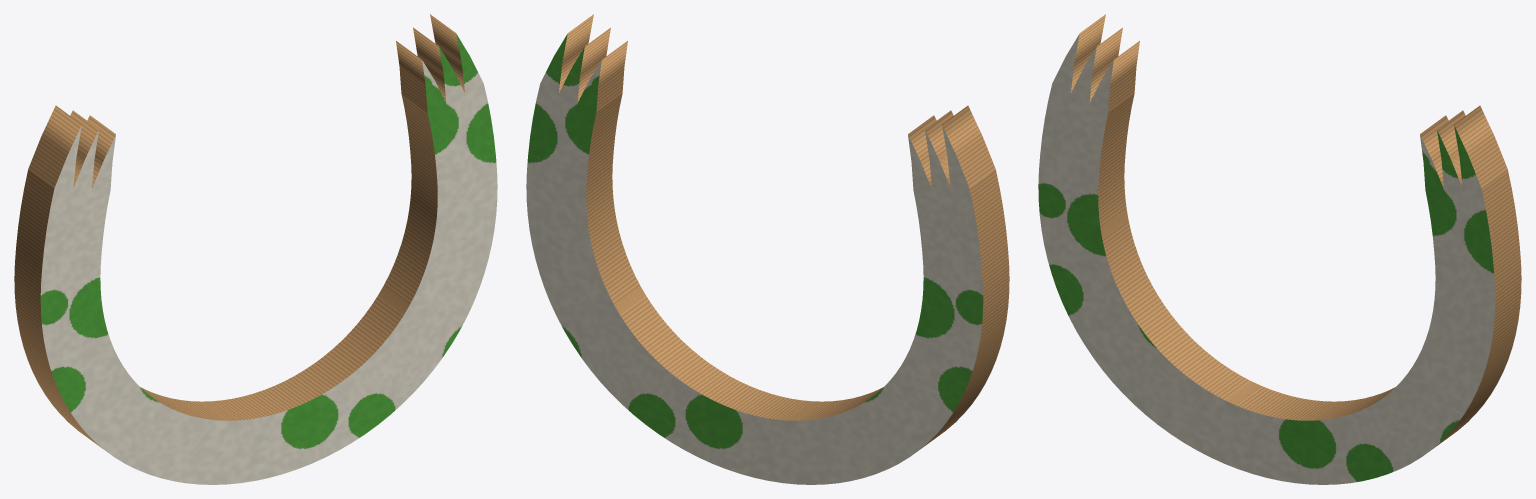
Rendered from goal_ring_bottom.obj.
The picture shows the model from 3 angles, left to right: view 1: azimuth 30°, elevation 25°; view 2: azimuth 150°, elevation 25°; view 3: azimuth 330°, elevation 25°; orthographic projection.
Parts seen in each view (by area): view 1: goal_ring_bottom; view 2: goal_ring_bottom; view 3: goal_ring_bottom.
Boxes of the visible parts, bbox=[...] form: goal_ring_bottom: bbox=[14, 14, 497, 484]; goal_ring_bottom: bbox=[526, 14, 1009, 484]; goal_ring_bottom: bbox=[1038, 14, 1521, 484].
Size of the model in its own units: 2.61 by 2.18 by 0.26.
Materials: 1 (1 with a texture image).
